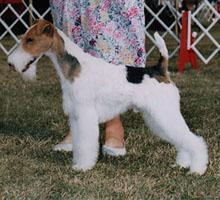wire-haired_fox_terrier: (4, 13, 210, 179)
